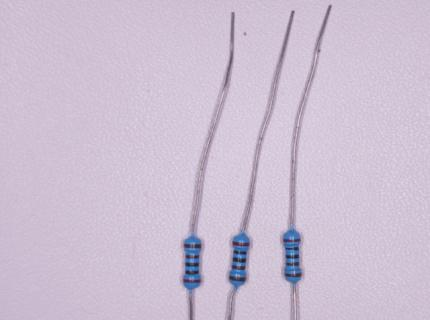Black band: (234, 250, 247, 255), (233, 257, 246, 262), (186, 262, 199, 267), (185, 270, 199, 274), (286, 247, 299, 251), (286, 254, 299, 258)
Brown band: (229, 275, 246, 281), (184, 243, 201, 248), (285, 272, 302, 277), (232, 265, 245, 270), (286, 262, 299, 266), (186, 255, 199, 258)
Red band: (233, 241, 250, 246), (183, 279, 201, 283), (283, 238, 301, 242)
